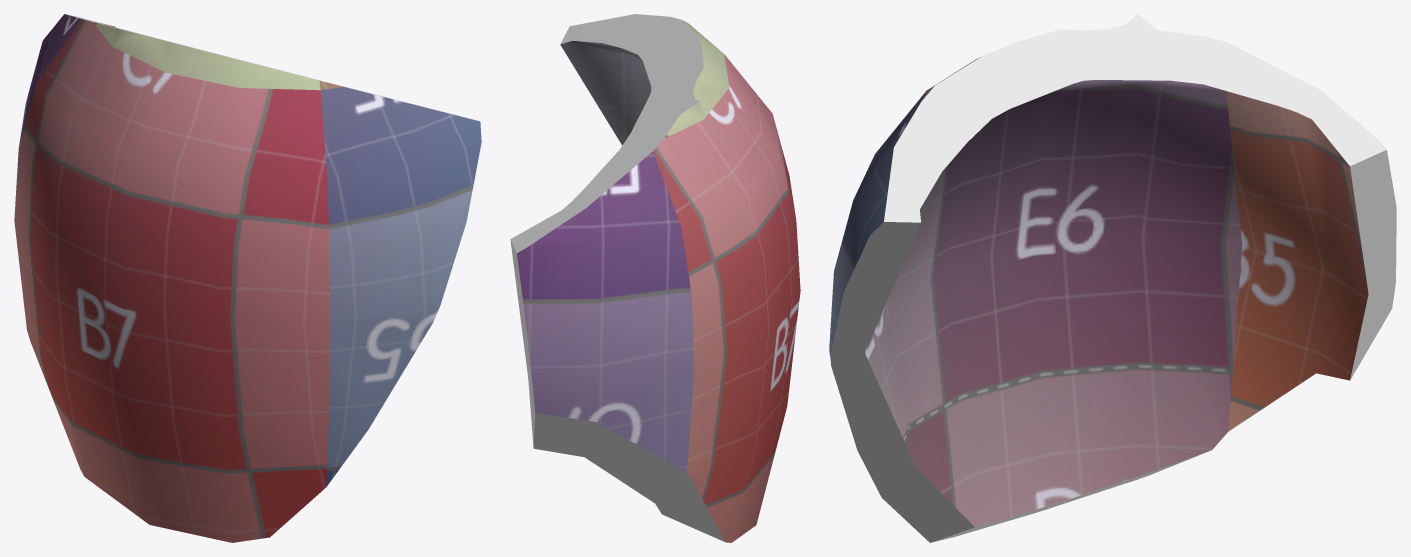
File: LongVase_SHAT_cell_006.fbx
3 renders of one model, left to right at view 1: azimuth 30°, elevation 25°; view 2: azimuth 150°, elevation 25°; view 3: azimuth 270°, elevation 25°, orthographic. The views are drawn at different scales.
Parts seen in each view (by area): view 1: LongVase_SHAT_cell_006; view 2: LongVase_SHAT_cell_006; view 3: LongVase_SHAT_cell_006.
Part boxes in pixels (x1,y1,x2,y2): LongVase_SHAT_cell_006: [14, 14, 481, 542]; LongVase_SHAT_cell_006: [510, 14, 800, 542]; LongVase_SHAT_cell_006: [829, 14, 1396, 542].
Bounding box in the file's own units: 0.7235 × 1.01 × 1.03.
Materials: 2 (1 with a texture image).
